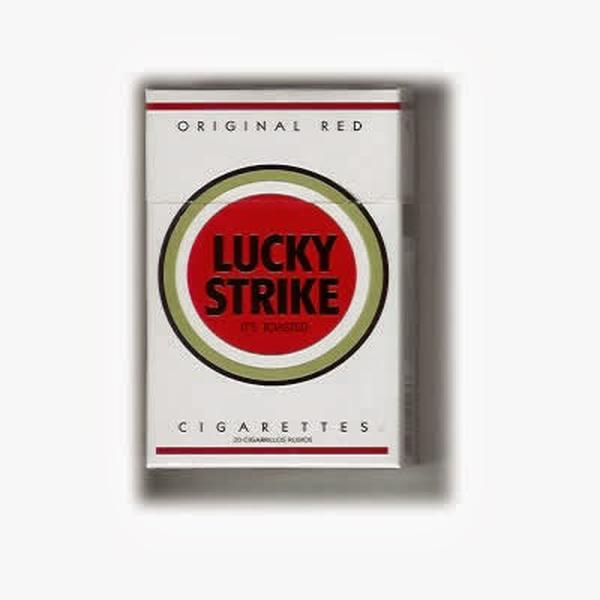lucky_strike_red: (148, 89, 398, 464)
